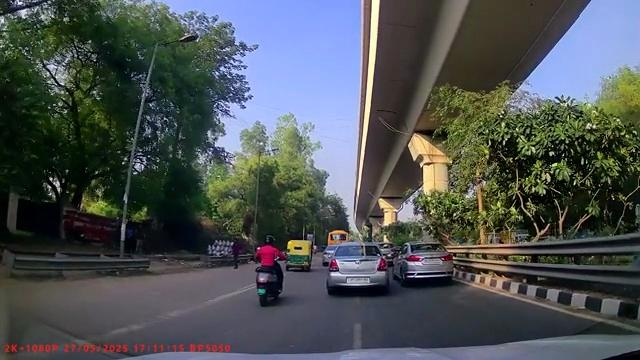motorcycle_with_helmet: (253, 234, 287, 306)
